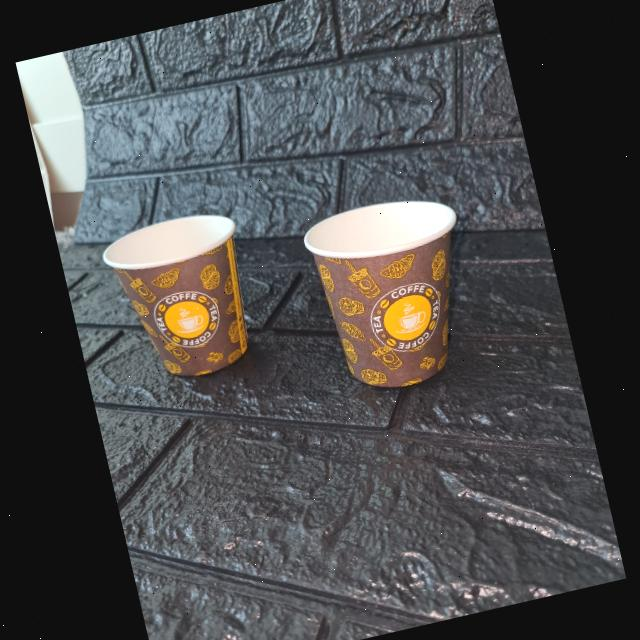trash: (296, 187, 486, 400), (100, 208, 268, 388)
